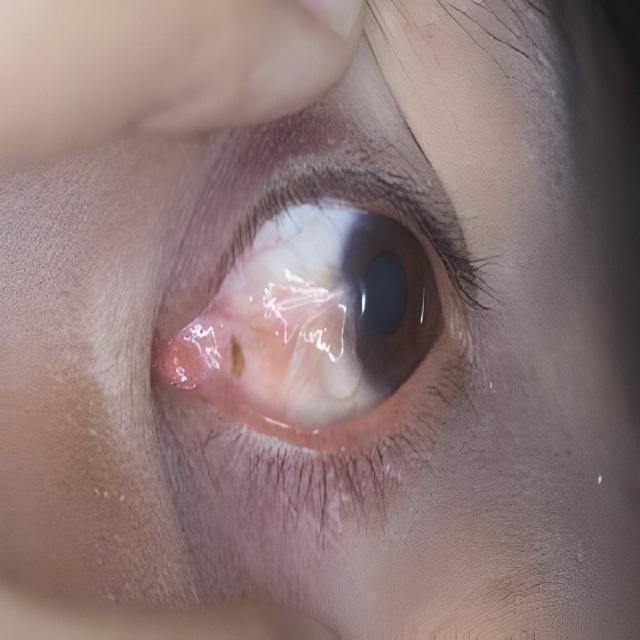Pterygium: (198, 239, 376, 411)
